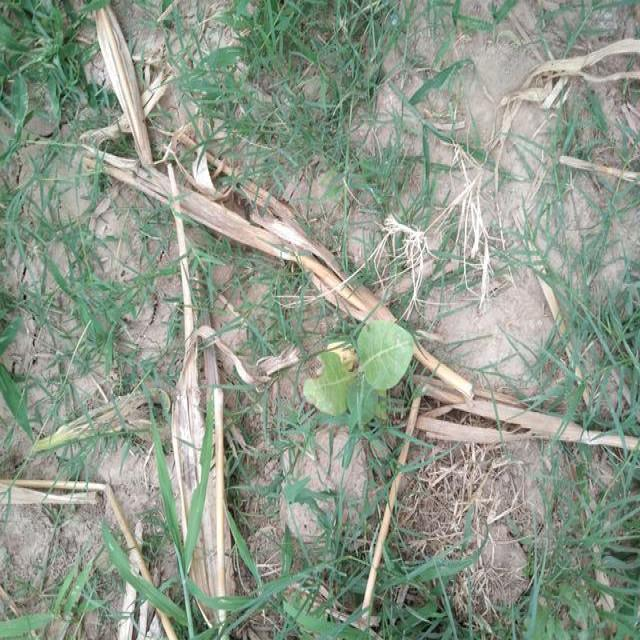crop: (302, 303, 424, 427)
